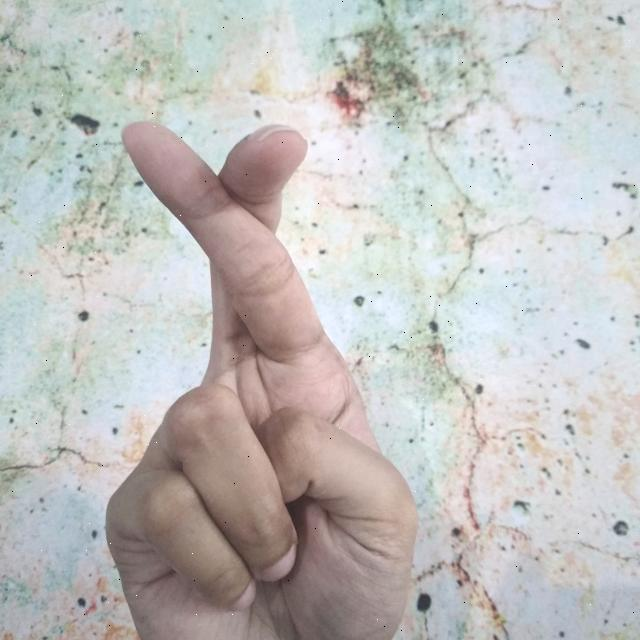R: (97, 106, 430, 640)
